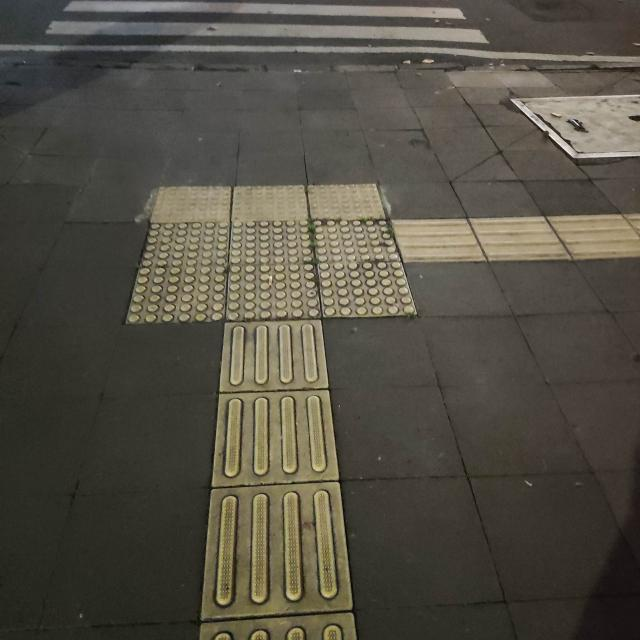kanan: (186, 188, 576, 374)
